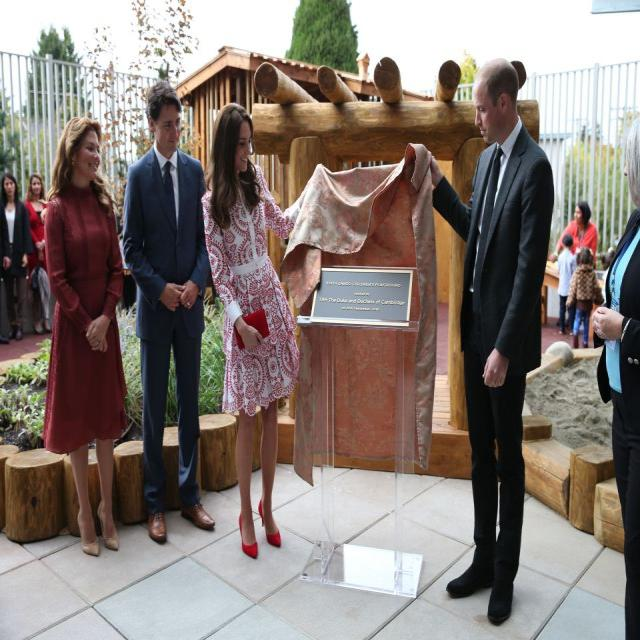body: (415, 54, 556, 630), (200, 99, 330, 559), (120, 80, 217, 546), (40, 115, 131, 558), (591, 111, 639, 639), (0, 172, 30, 340), (23, 171, 53, 337), (563, 243, 606, 350), (547, 200, 599, 270), (111, 193, 134, 306), (556, 232, 577, 337), (0, 173, 13, 326)
